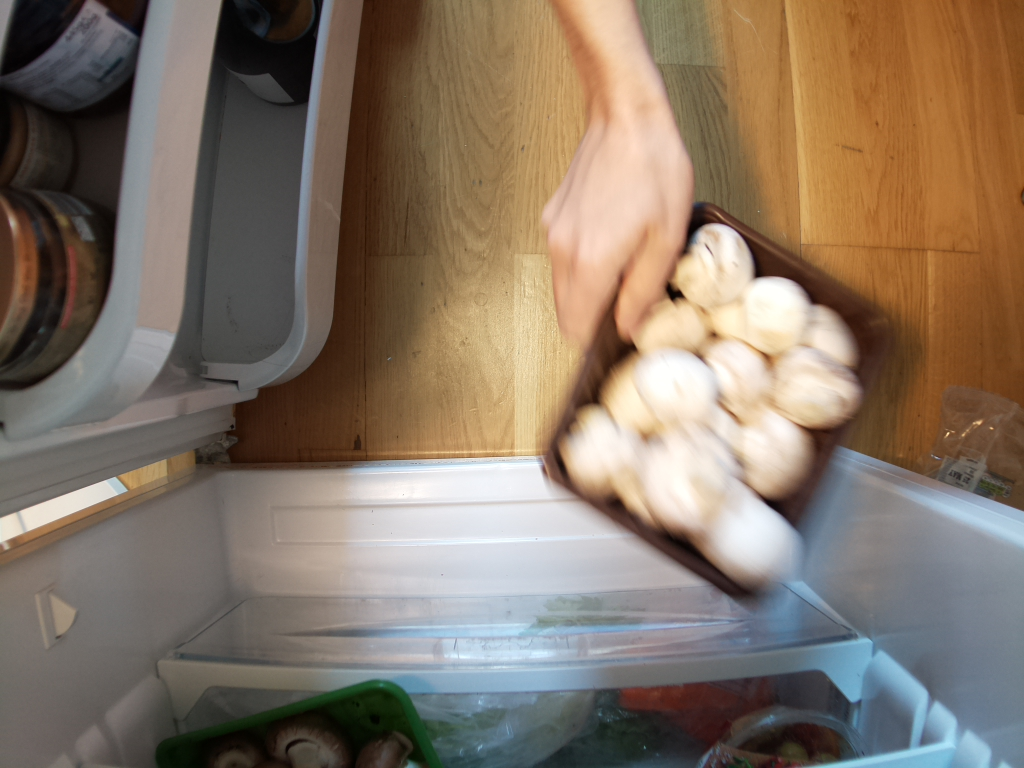mushrooms: (527, 200, 906, 611)
